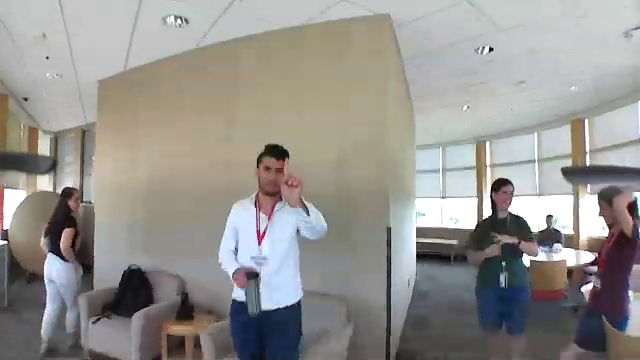up: (278, 152, 305, 204)
